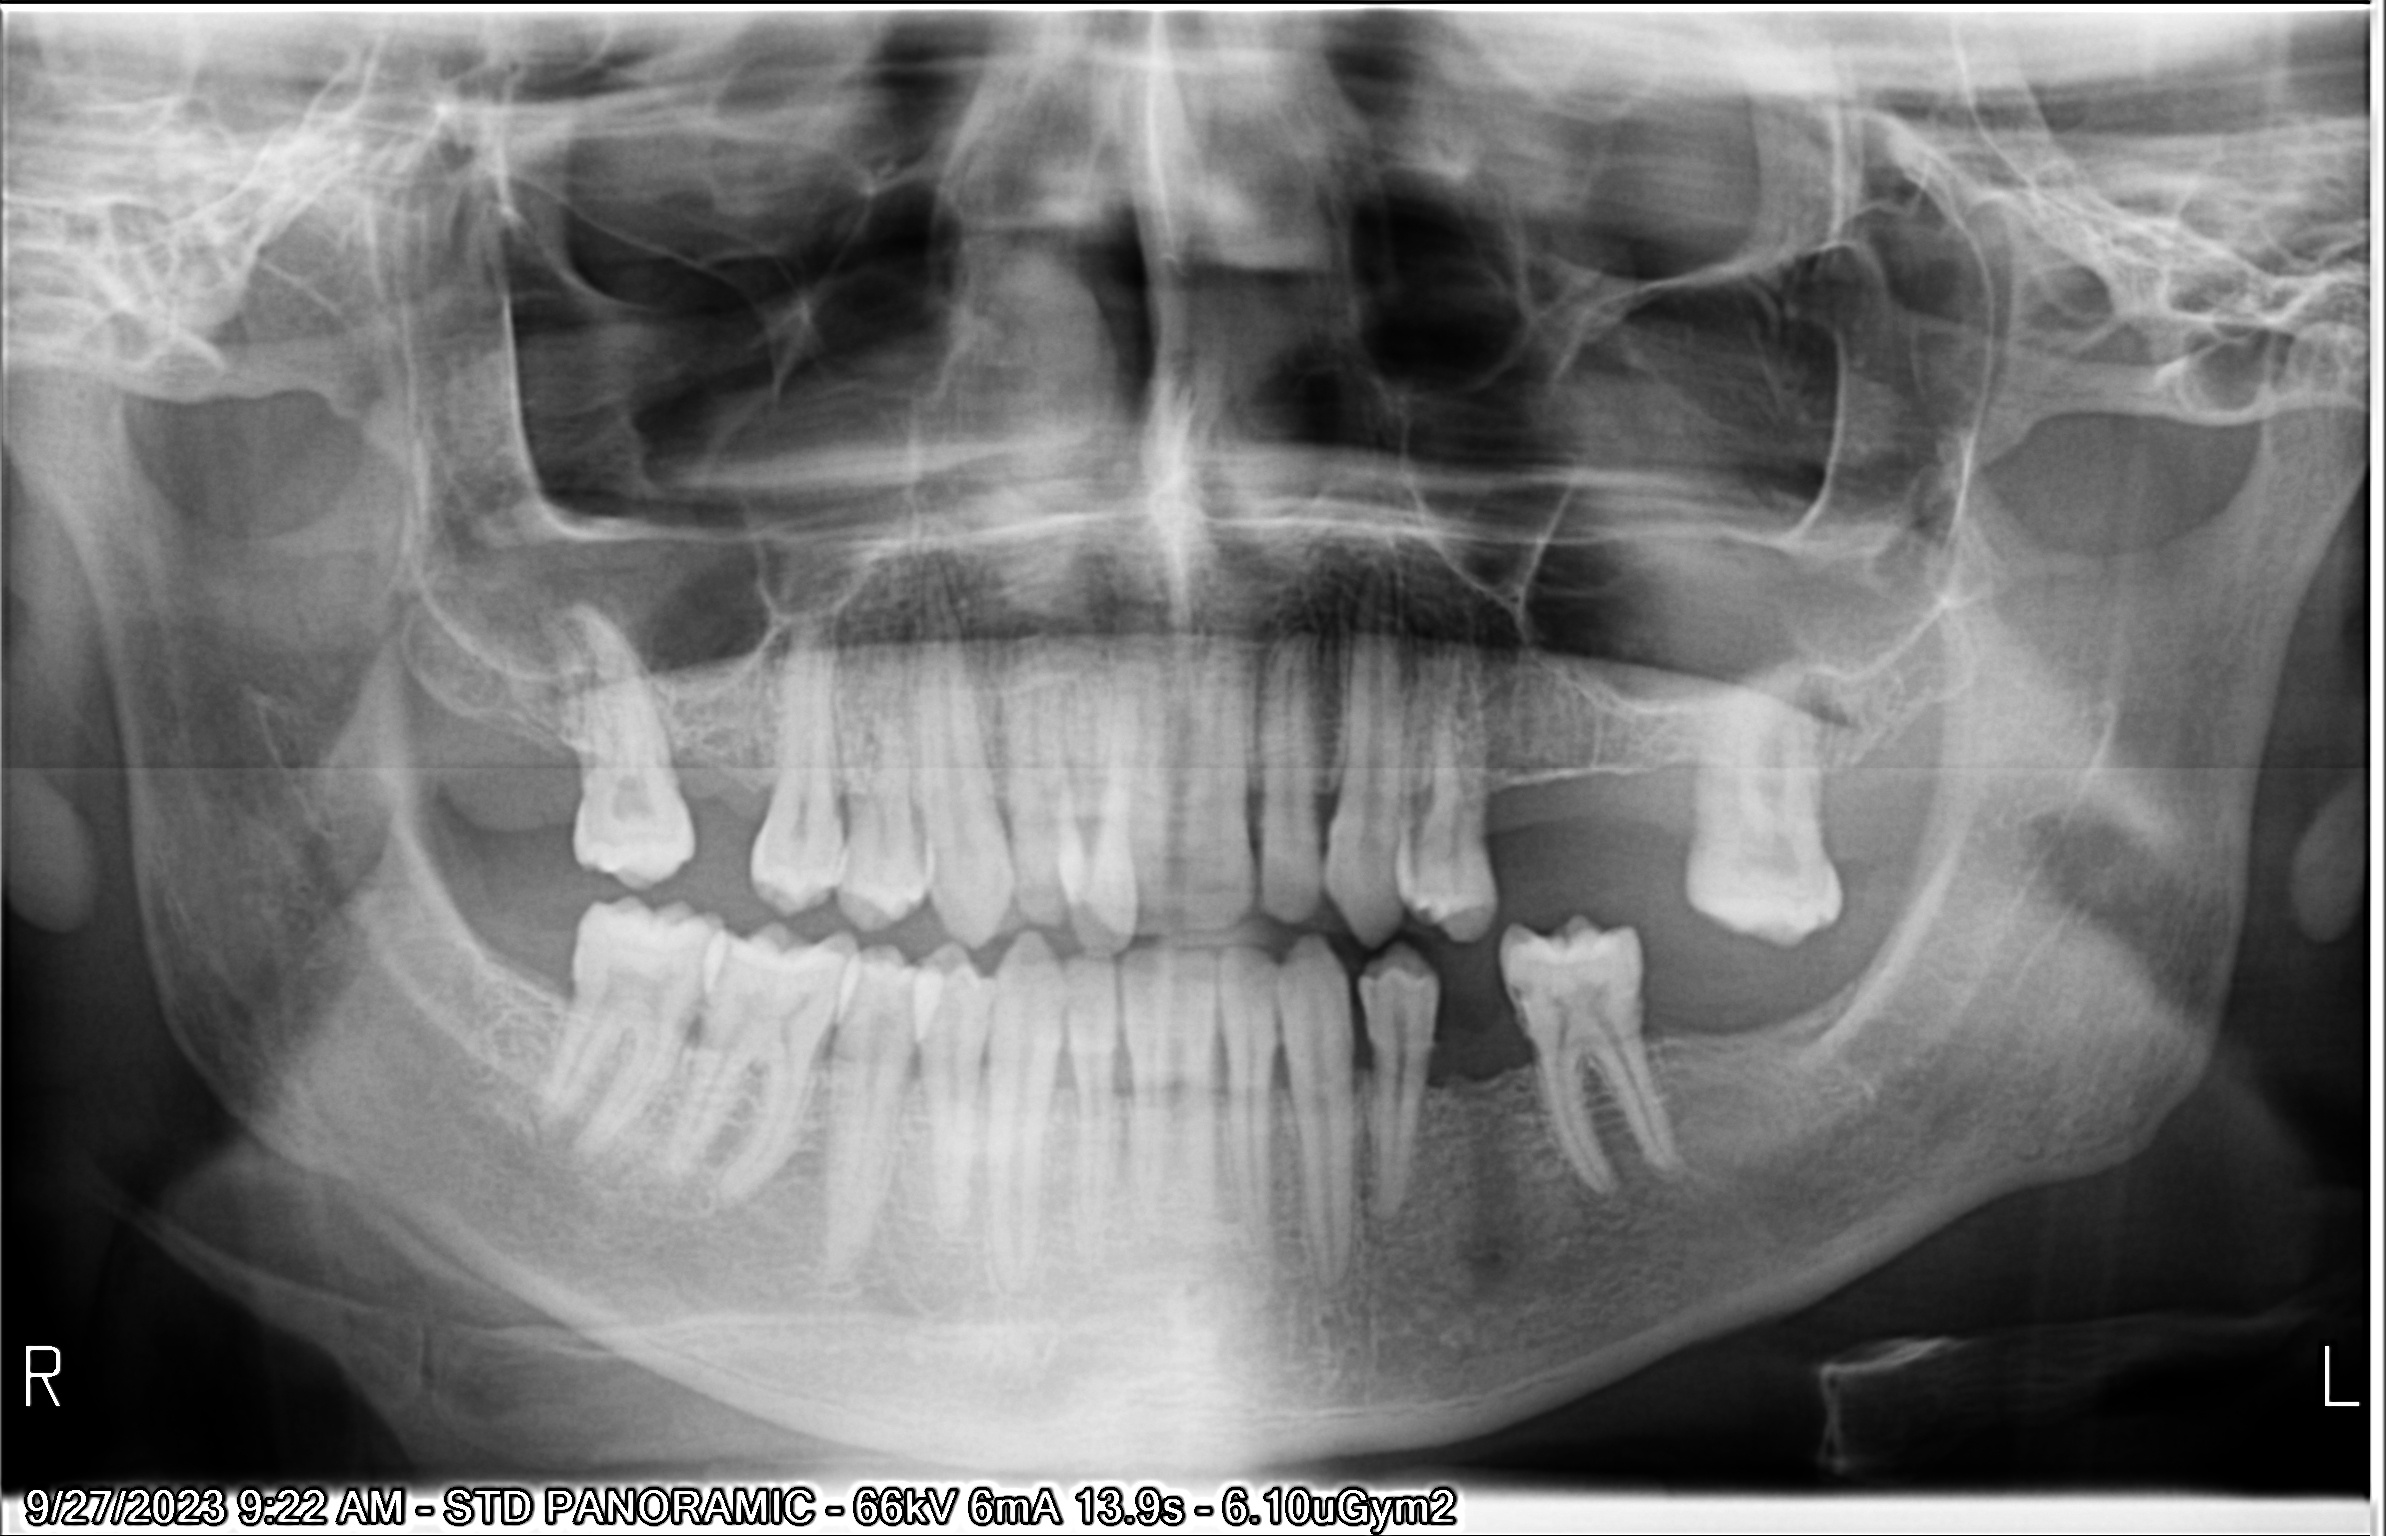CAR: (713, 459, 2271, 1466)
